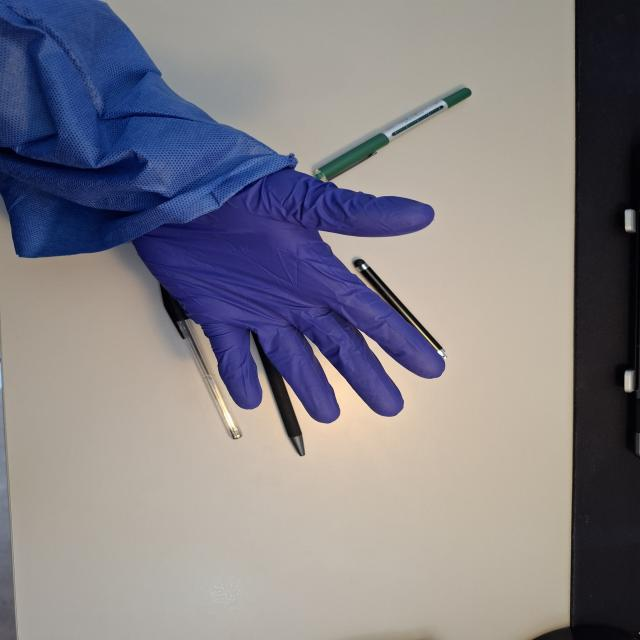glove_on: (123, 163, 450, 426)
